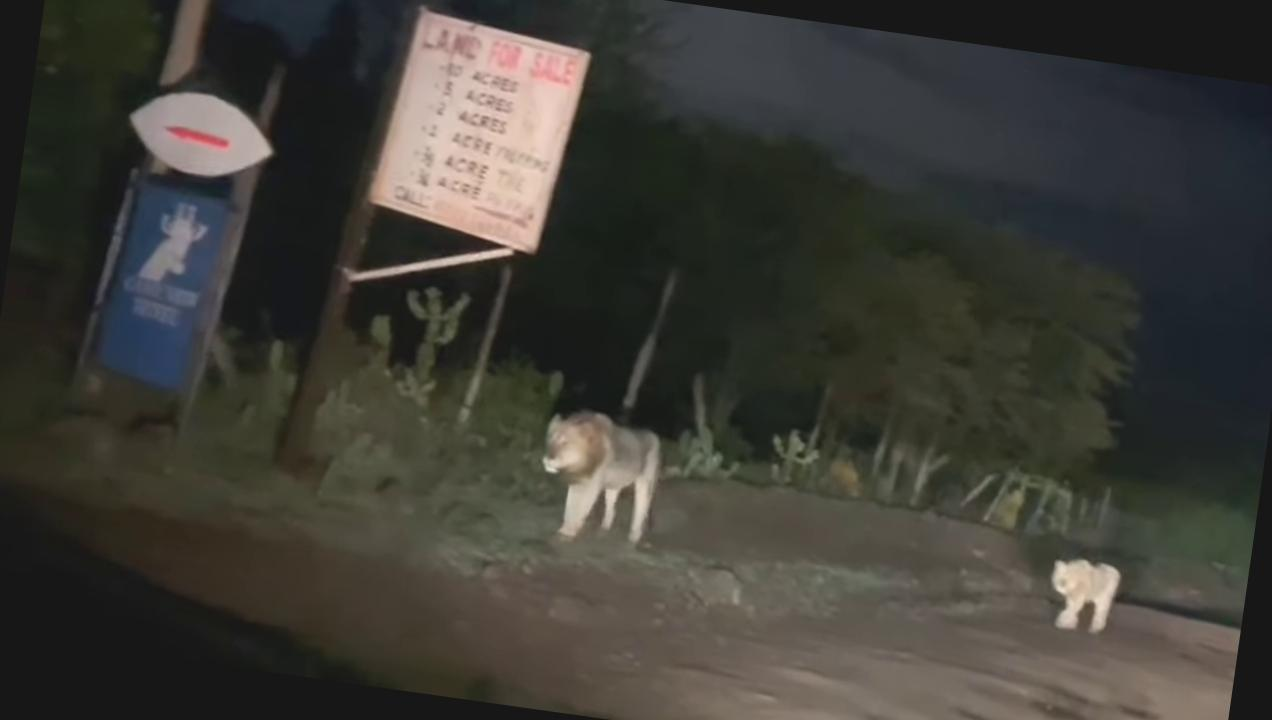lions: (507, 386, 683, 554), (1036, 536, 1134, 652)
